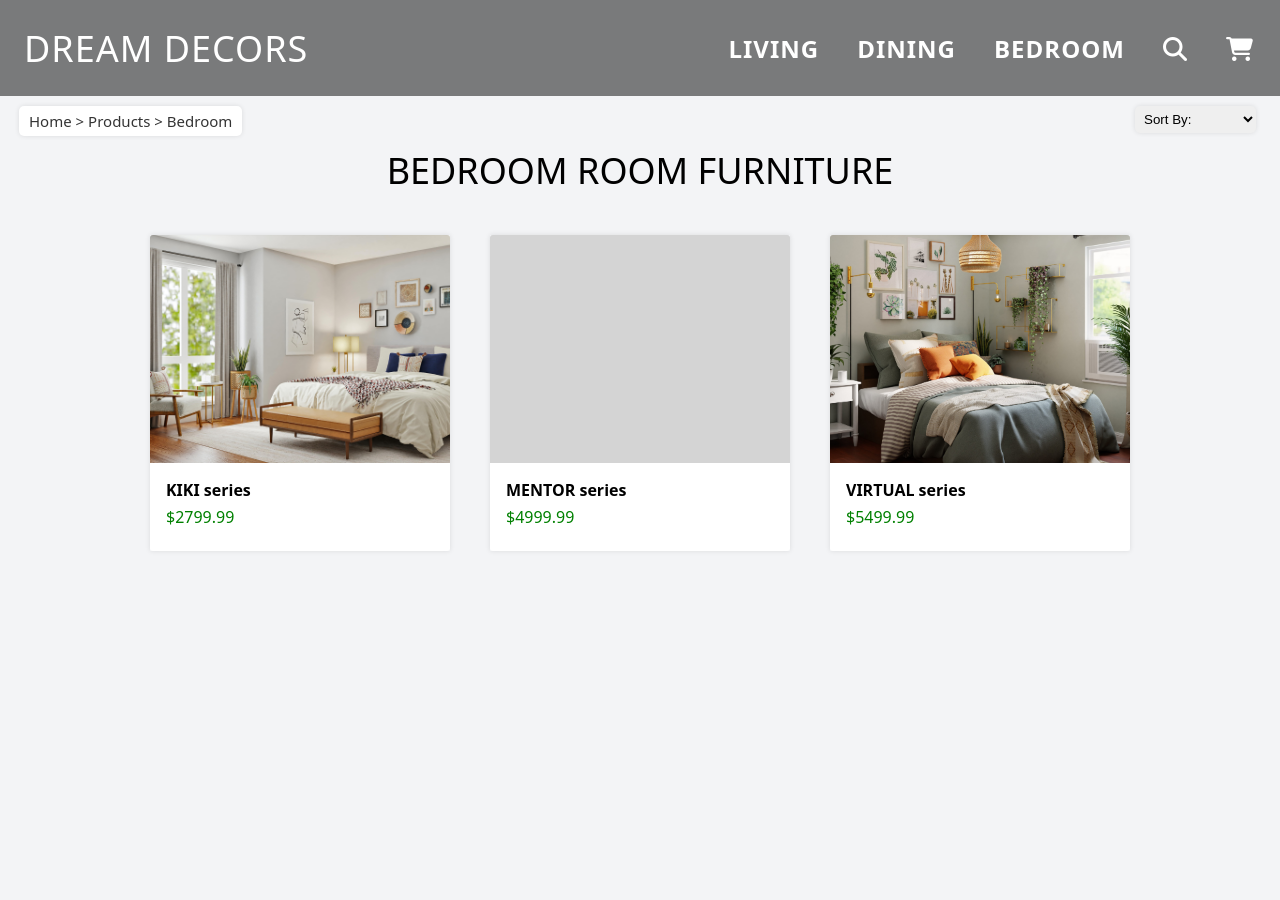
Test: Search feature functions correctly › Search comes back with results
Click the icon with test id "search" at (1176, 48), box [1163,36,1188,60]
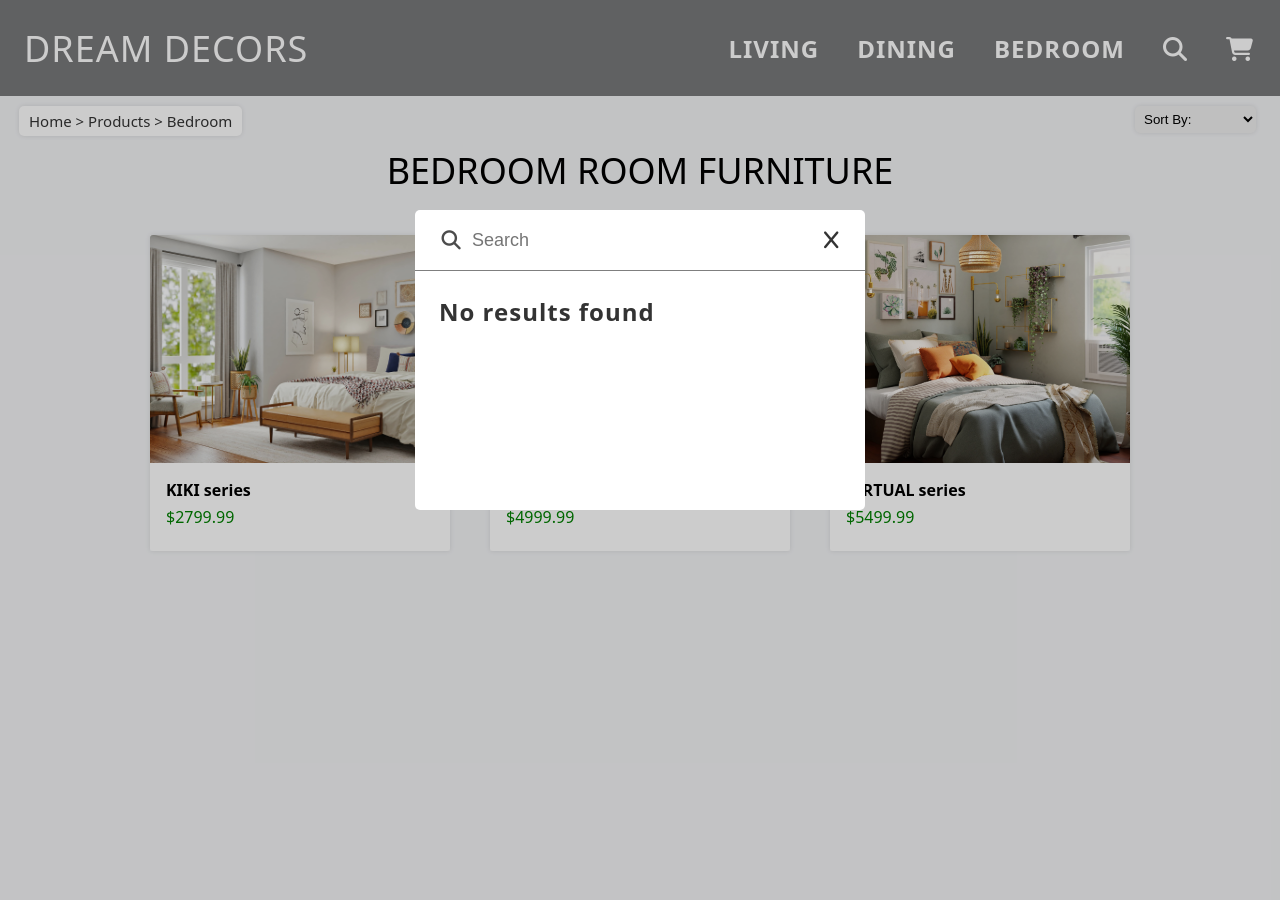
Type "AVANTE" into the field with placeholder "Search" at (647, 240), box [472,210,822,270]
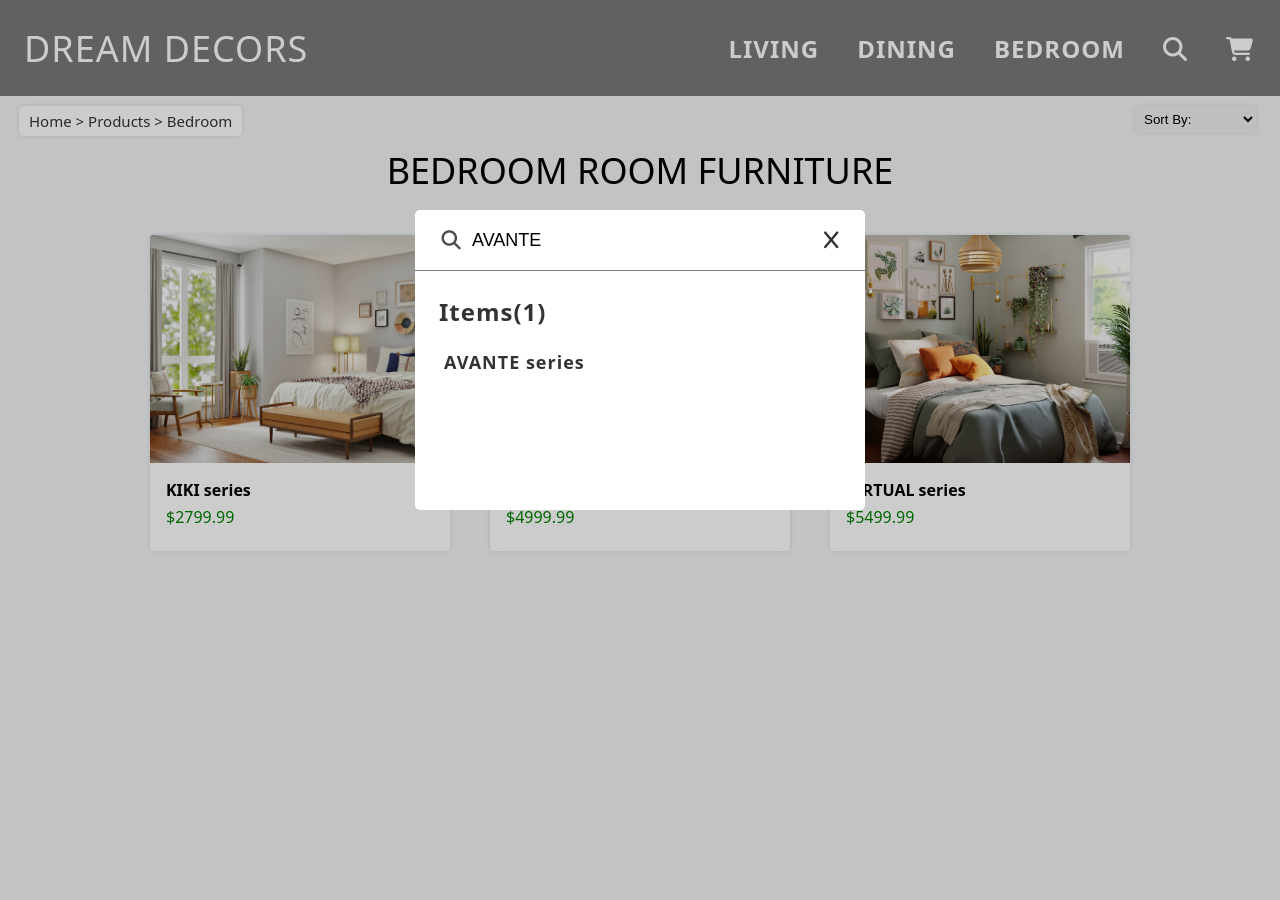
Check: the link "AVANTE series" is shown, box [444,350,585,374]
